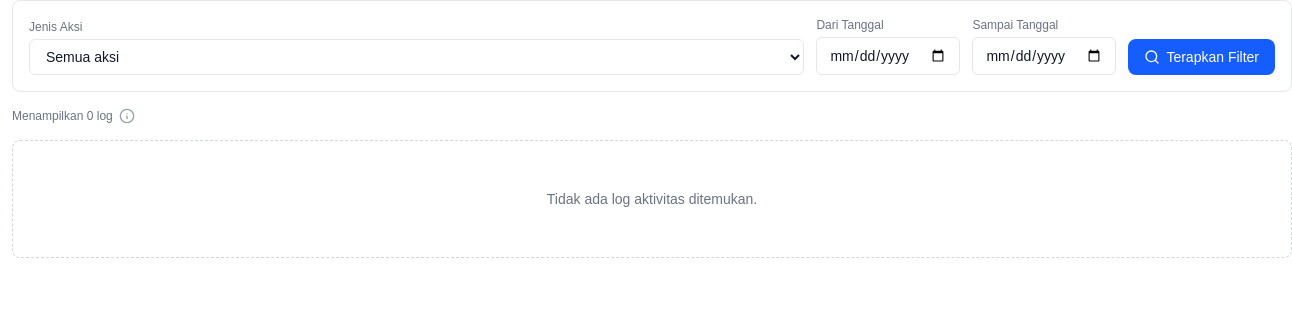
Test: ActivityLogTable › harus menampilkan error fallback saat fetch gagal tanpa detail
Click the button "Terapkan Filter": (1202, 57) [1128,39,1275,75]
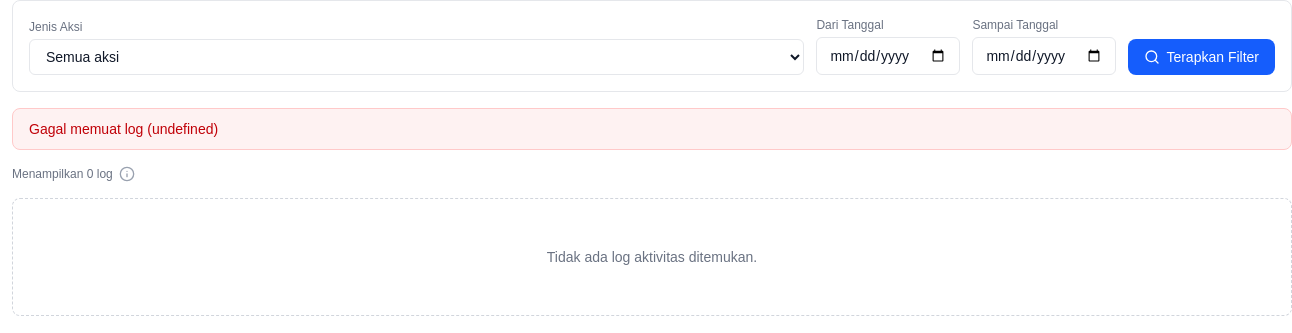
Expected: the text "Gagal memuat log (undefined)" is shown, [12,108,1291,150]
